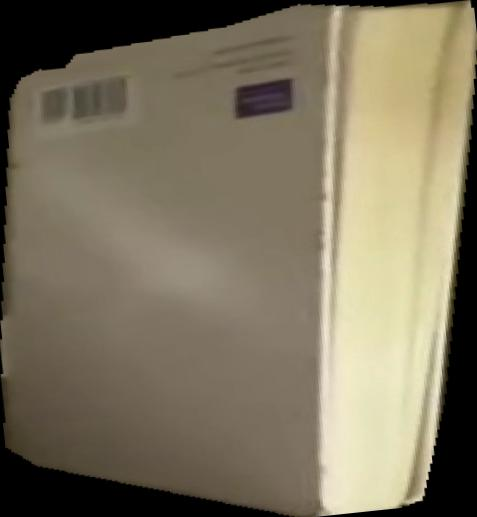backward: (1, 1, 477, 517)
